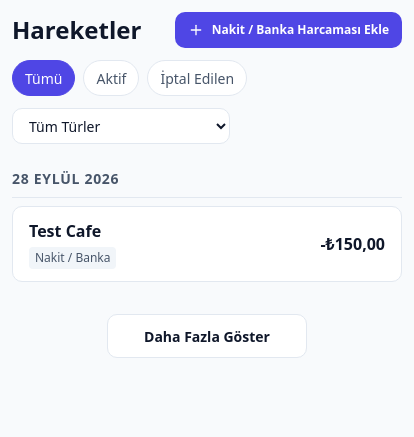
Transaction Timeline Component — Keyset Pagination & Filtering › renders transaction rows and keyset pagination fetches next page using both cursor fields
Check: the text "Test Cafe" is shown, box [29,220,101,242]
Click the button with test id "load-more-btn" at (207, 336), box [107,314,307,358]
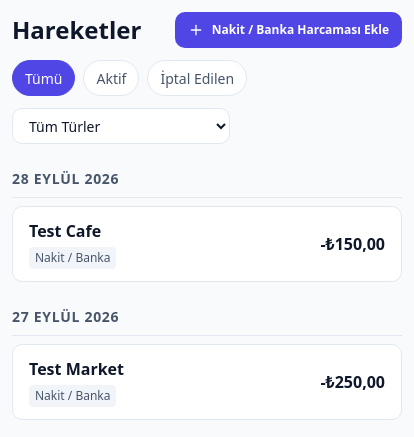
Check: the text "Test Market" is shown, box [29,357,124,381]
